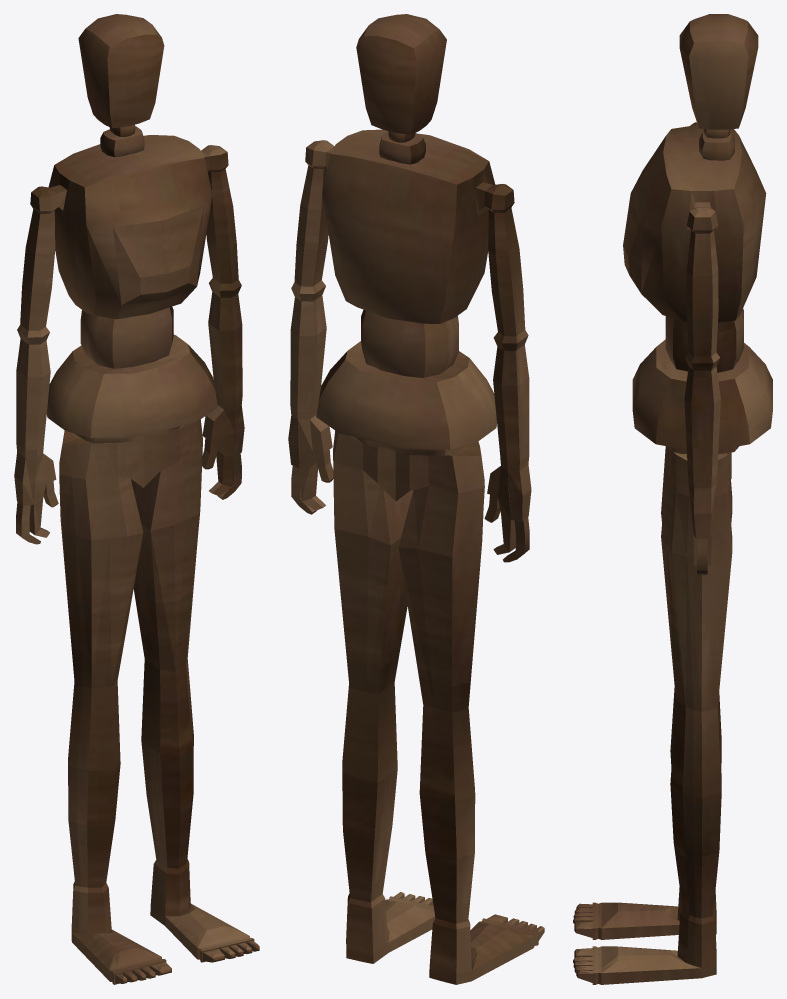
The model's file is my3dobject2.fbx.
3 renders of one model, left to right at view 1: azimuth 30°, elevation 25°; view 2: azimuth 150°, elevation 25°; view 3: azimuth 270°, elevation 25°, orthographic. The views are drawn at different scales.
Parts seen in each view (by area): view 1: Box001; view 2: Box001; view 3: Box001.
Part boxes in pixels (left/top/right/bottom): Box001: left=14, top=14, right=259, bottom=984; Box001: left=288, top=14, right=544, bottom=984; Box001: left=573, top=14, right=772, bottom=984.
Size of the model in its own units: 12.41 by 9.39 by 48.15.
1 material, 1 textured.
